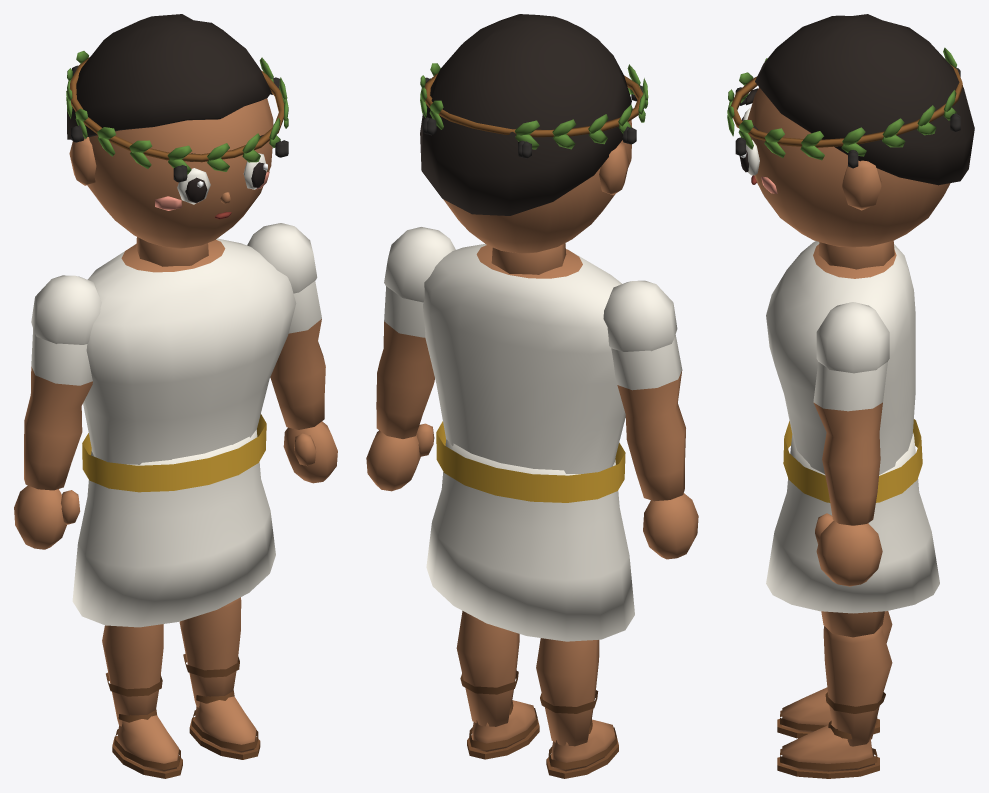
The model's file is olympionike.glb.
3 views of the same model, side by side, from view 1: azimuth 30°, elevation 25°; view 2: azimuth 150°, elevation 25°; view 3: azimuth 270°, elevation 25° (orthographic). The views are drawn at different scales.
Visible parts, largest first — view 1: rumpf, huefte, kopf, haare, armL, armR, knieL, knieR, kopfschmuck, augeL, augeR; view 2: rumpf, haare, huefte, armL, armR, kopf, knieL, knieR, kopfschmuck; view 3: haare, rumpf, armR, kopf, huefte, knieR, kopfschmuck, knieL, beinR, augeR.
Boxes of the visible parts, <box> form: rumpf: <box>82,238,296,492</box>; huefte: <box>72,430,275,627</box>; kopf: <box>69,98,273,266</box>; haare: <box>67,14,271,139</box>; armL: <box>14,275,101,549</box>; armR: <box>247,223,337,483</box>; knieL: <box>102,624,182,778</box>; knieR: <box>179,597,260,759</box>; kopfschmuck: <box>66,51,288,182</box>; augeL: <box>177,168,210,204</box>; augeR: <box>243,153,267,189</box>; rumpf: <box>423,244,625,502</box>; haare: <box>420,14,631,215</box>; huefte: <box>426,439,634,641</box>; armL: <box>603,280,698,559</box>; armR: <box>366,227,455,491</box>; kopf: <box>443,120,632,274</box>; knieL: <box>536,638,618,778</box>; knieR: <box>456,611,539,759</box>; kopfschmuck: <box>420,63,648,158</box>; haare: <box>755,14,974,185</box>; rumpf: <box>766,241,922,502</box>; armR: <box>813,302,889,586</box>; kopf: <box>747,87,950,269</box>; huefte: <box>766,433,939,613</box>; knieR: <box>777,626,892,778</box>; kopfschmuck: <box>727,47,962,168</box>; knieL: <box>777,611,892,738</box>; beinR: <box>821,611,884,637</box>; augeR: <box>739,140,759,175</box>.
Bounding box in the file's own units: 1.05 × 2.3 × 0.7114.
